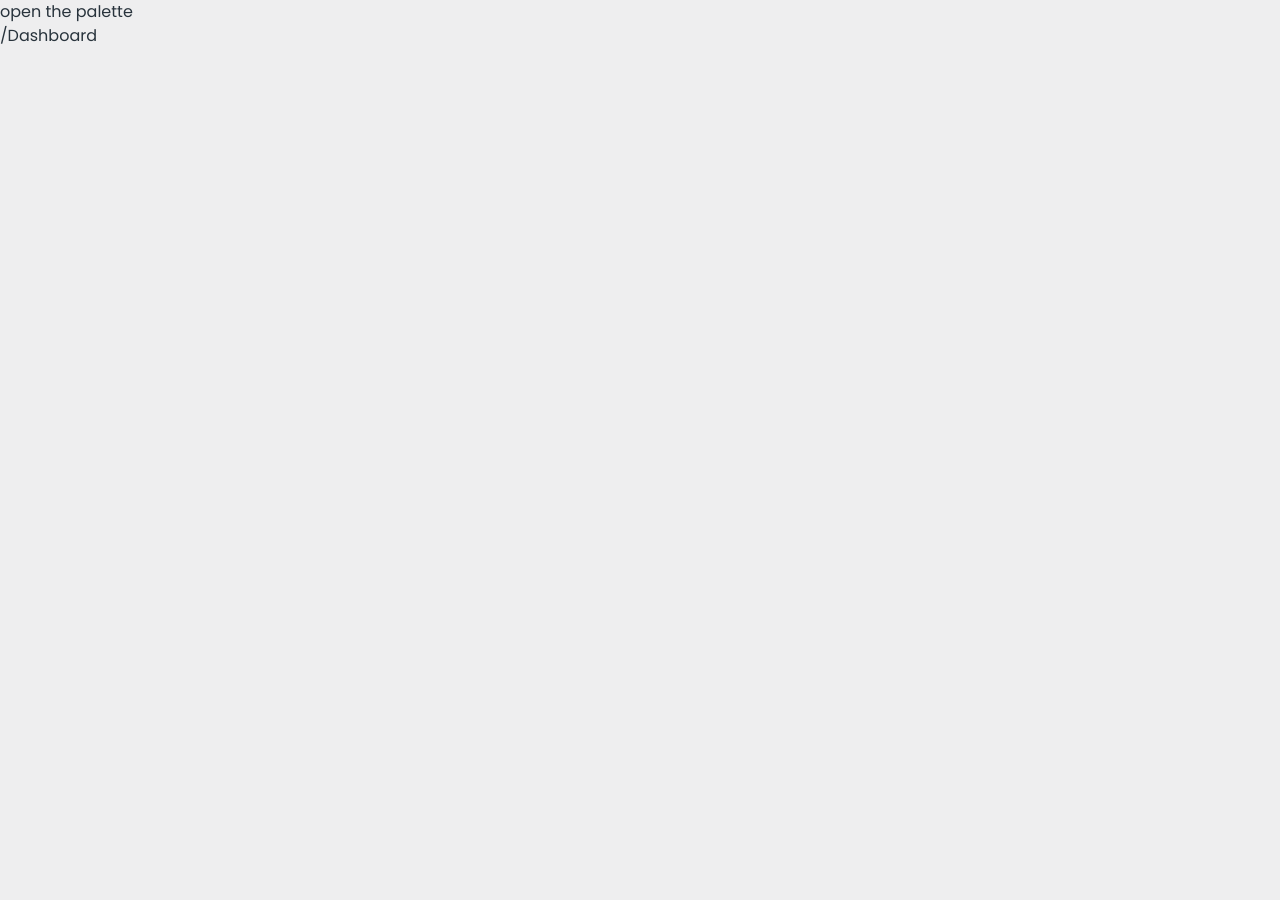
Scenario: choosing › finds pages by what is typed, marks the words, and Enter opens the first one
Press k
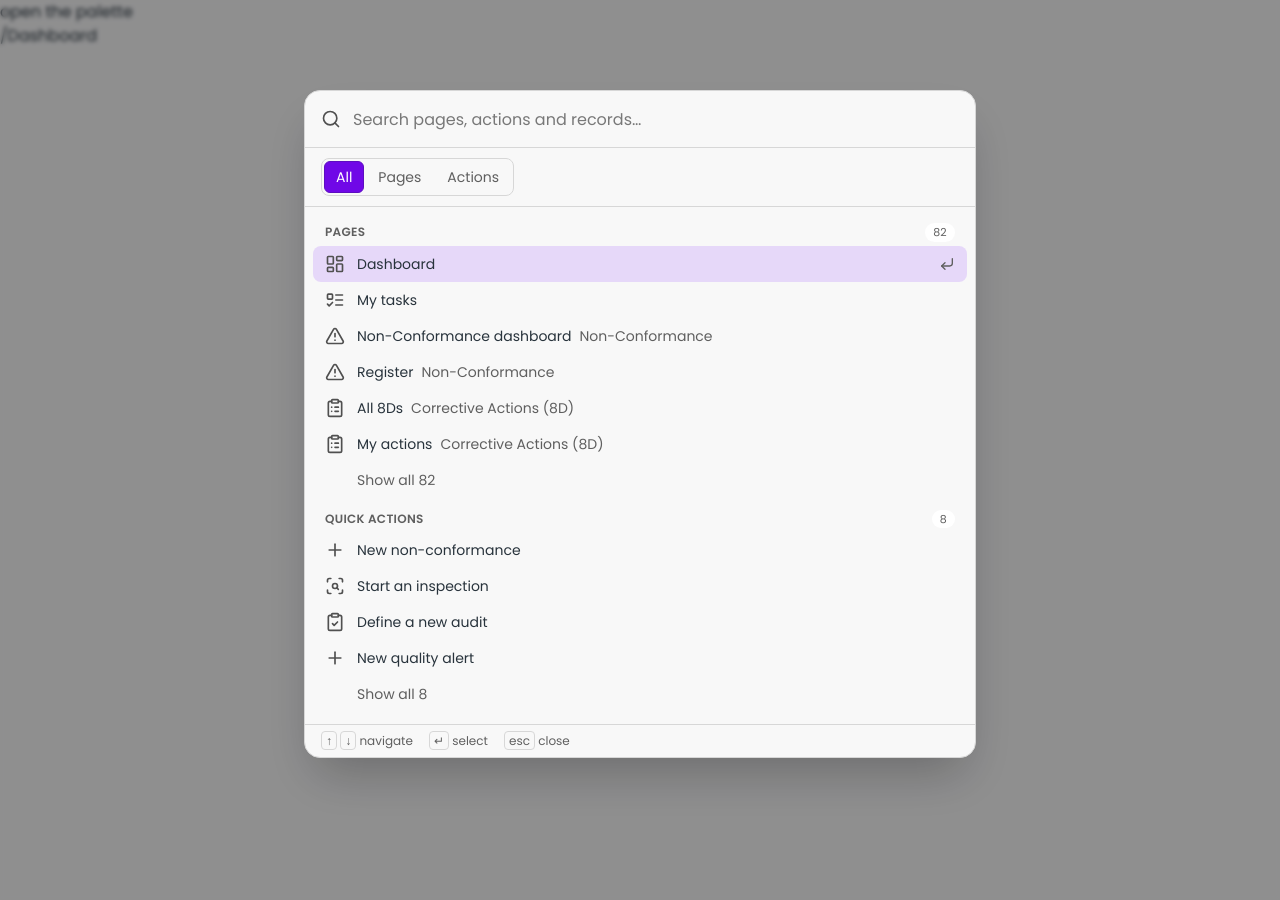
In the dropdown labelled "Search pages, actions and records…": (656, 119) [353,91,959,147], type "register"
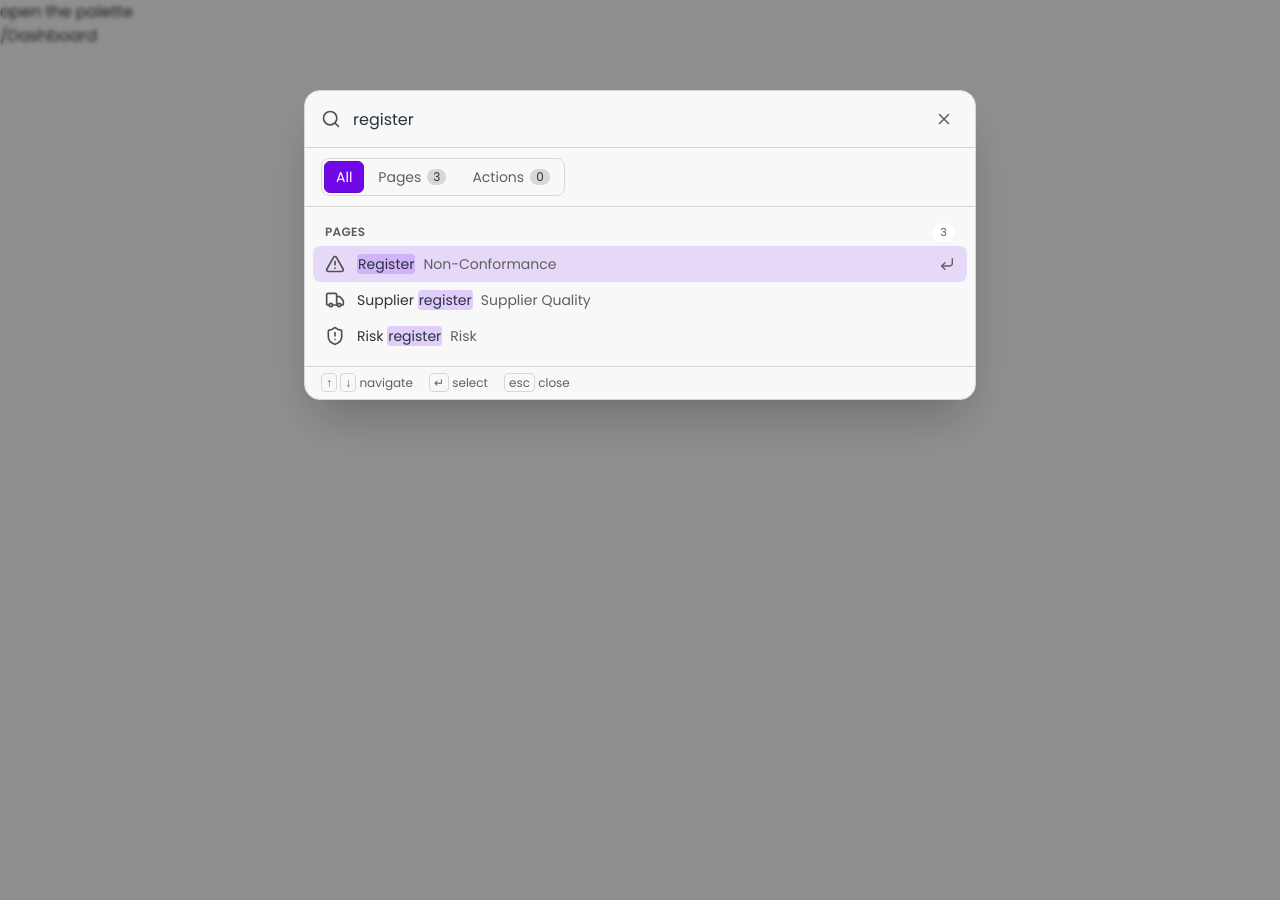
Expected: the text "Register" is shown, [357,254,415,274]
Press Enter in the dropdown named "Search pages, actions and records", box [353,91,917,147]
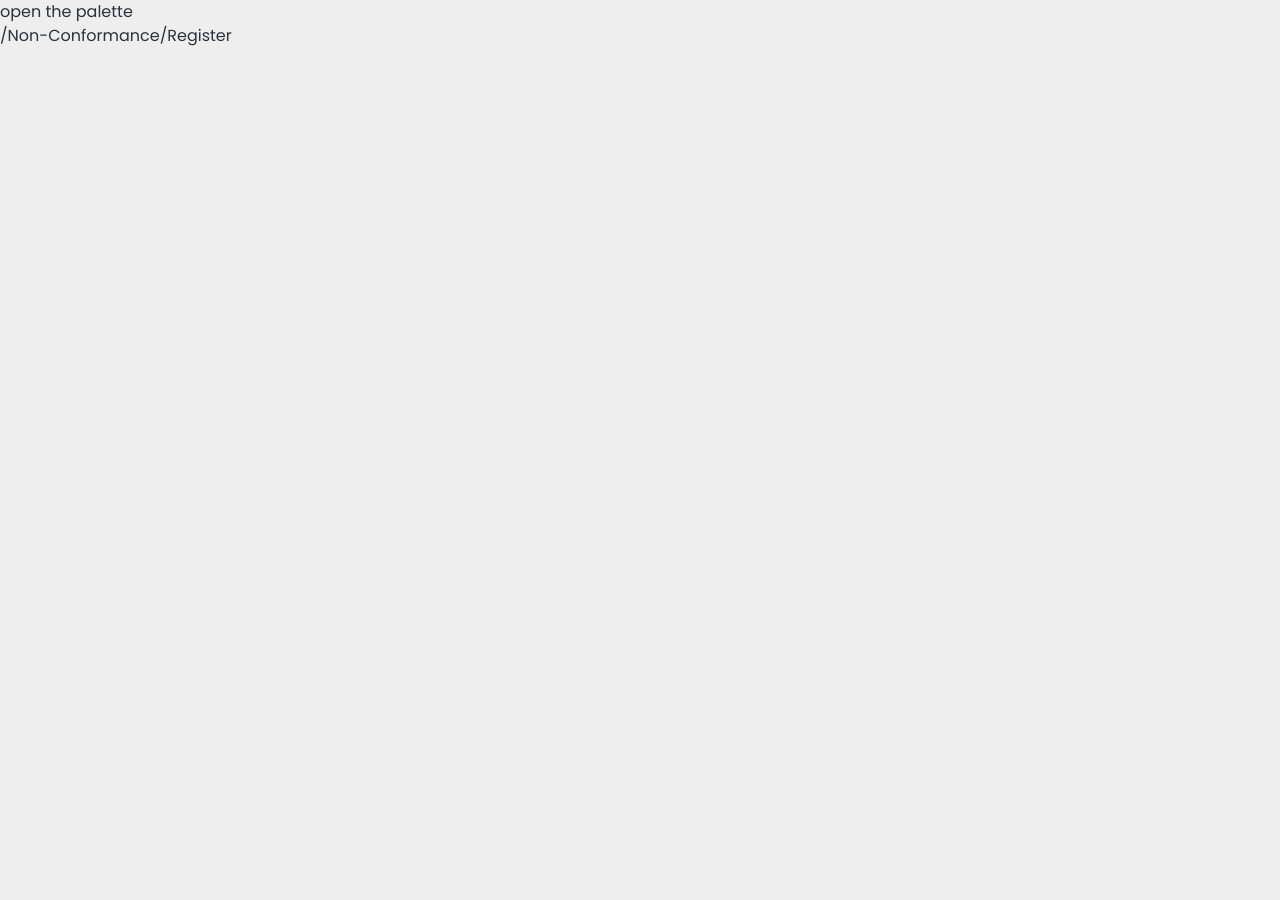
Expected: the dialog is gone
Expected: the text with test id "where" shows "Register", [0,24,232,47]
